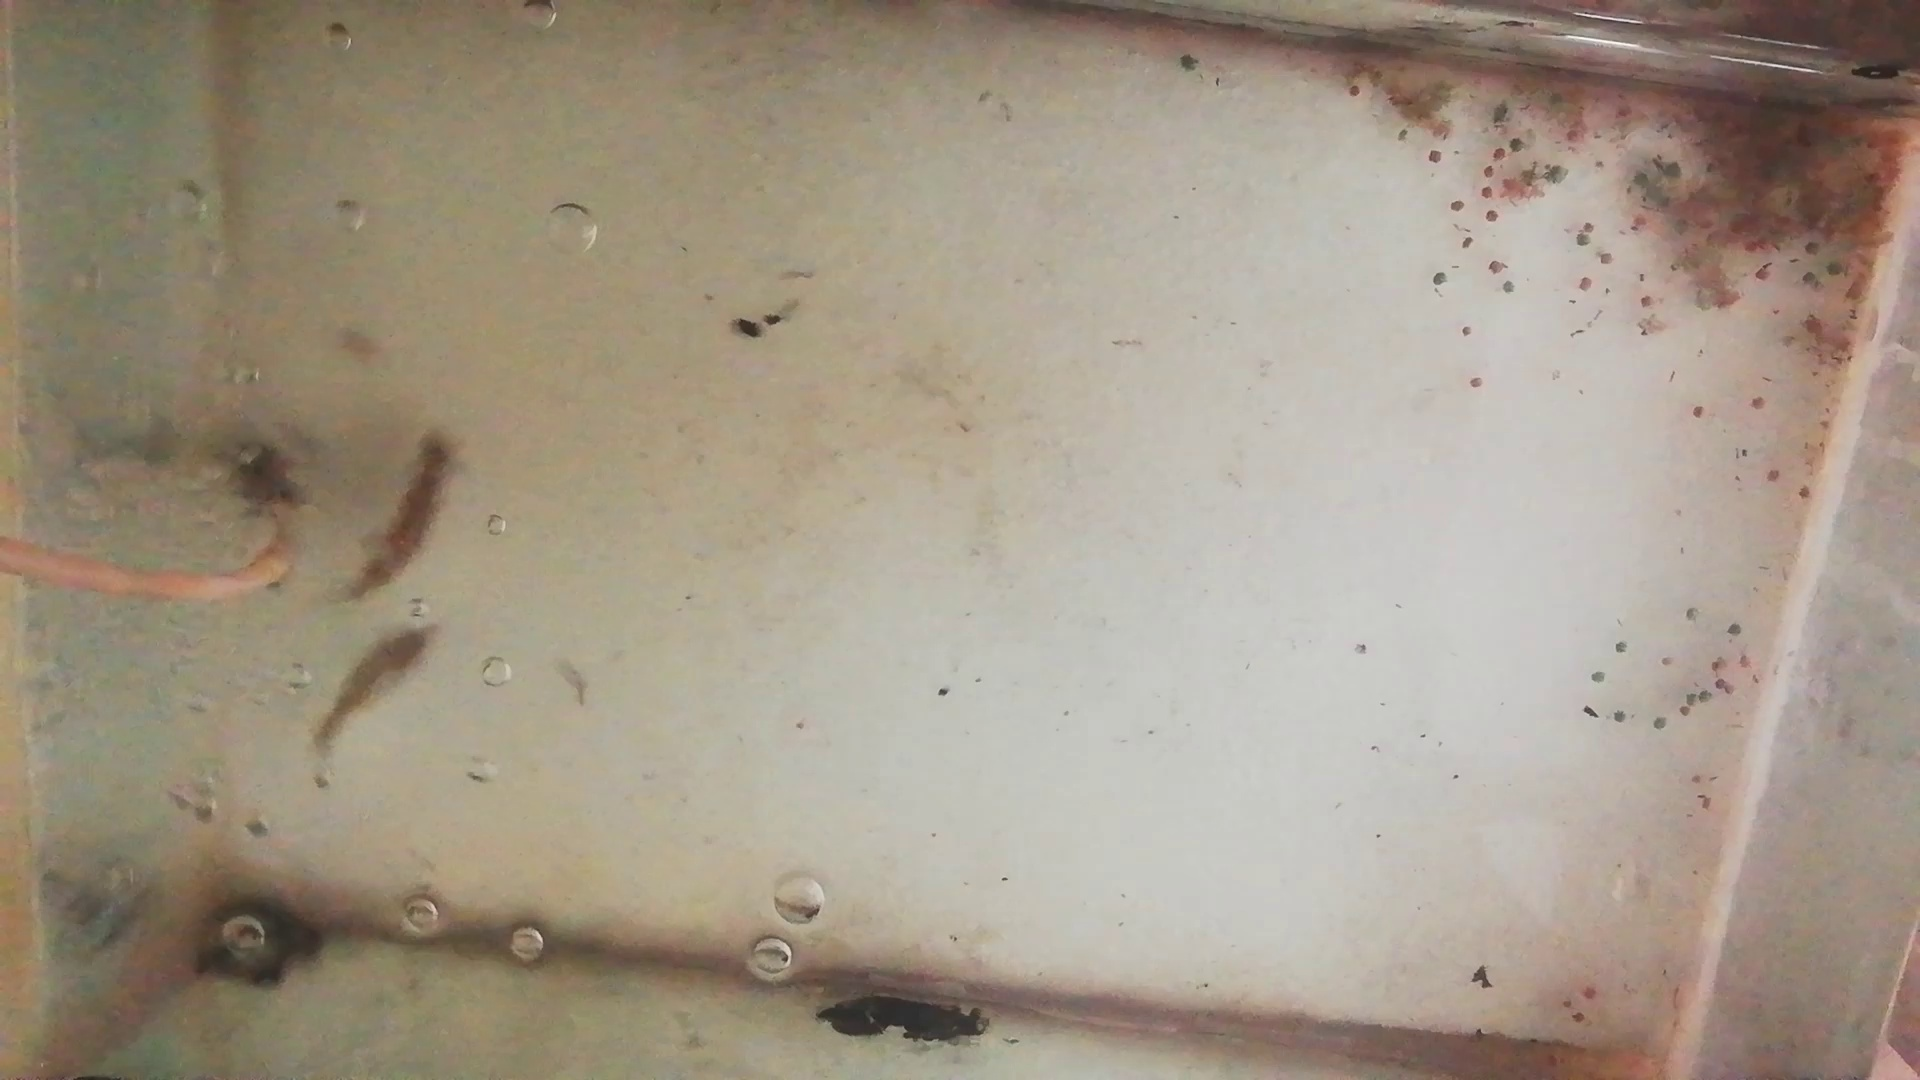fish: (339, 426, 462, 597), (309, 620, 436, 761)
